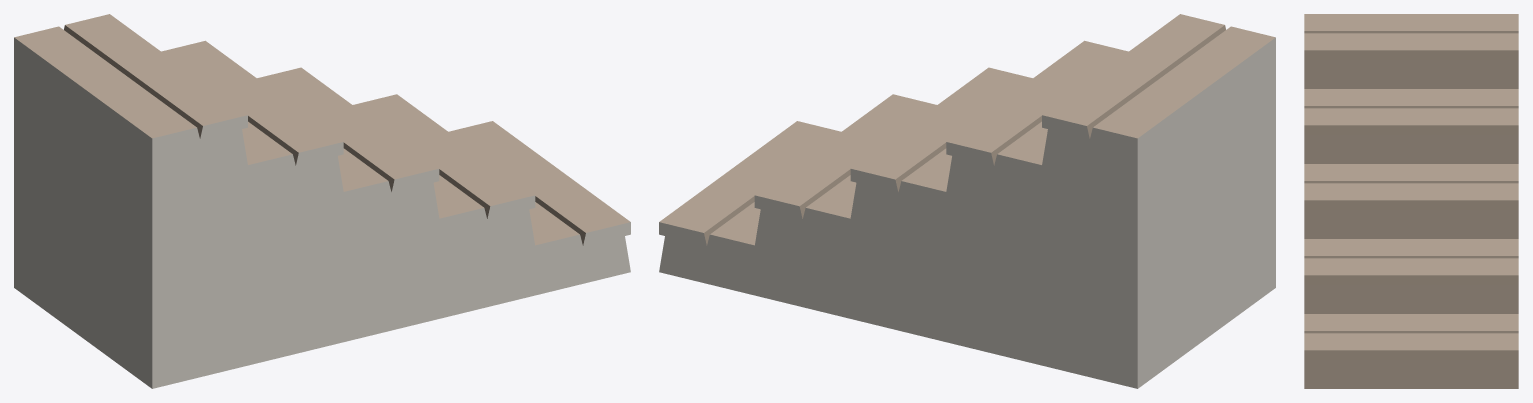
The model's file is Wood_Steps_Stucco.glb.
3 views of the same model, side by side, from view 1: azimuth 30°, elevation 25°; view 2: azimuth 150°, elevation 25°; view 3: azimuth 270°, elevation 25° (orthographic). The views are drawn at different scales.
Visible parts, largest first — view 1: object1; view 2: object1; view 3: object1.
Part boxes in pixels (x1,y1,x2,y2): object1: (14,14,630,388); object1: (659,14,1275,388); object1: (1304,14,1518,388).
Bounding box in the file's own units: 2 × 1 × 1.
